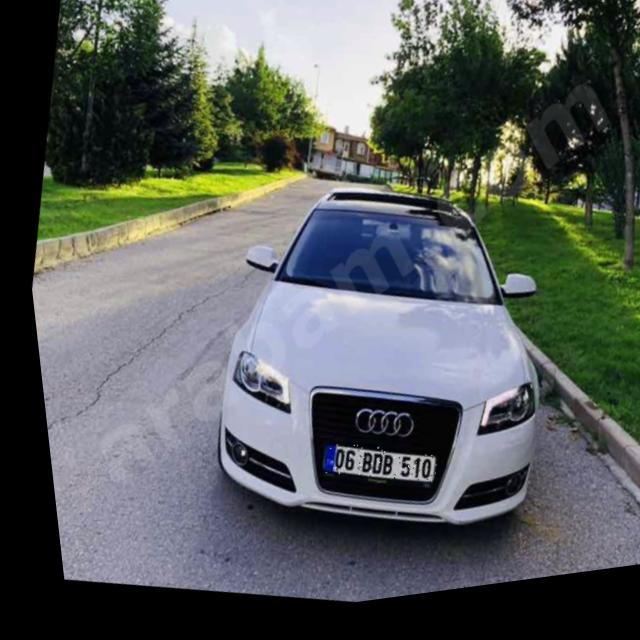license_plate: (305, 438, 428, 504)
